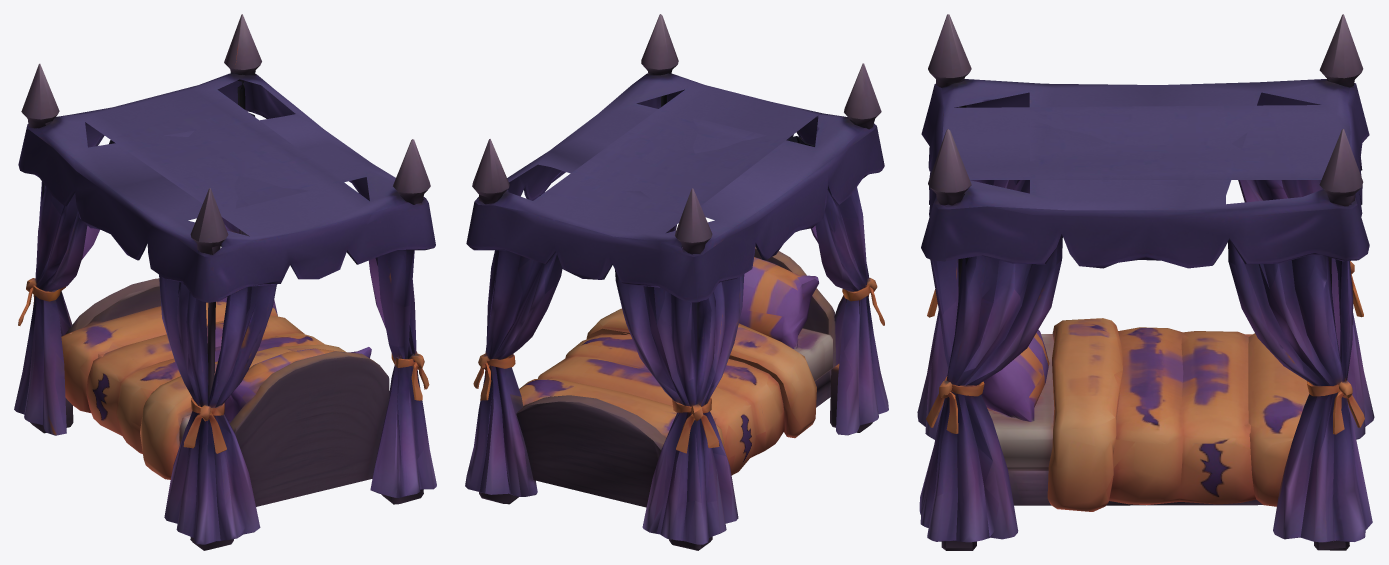
Rendered from S5_WitchBed_LOD2.fbx.
The picture shows the model from 3 angles, left to right: view 1: azimuth 30°, elevation 25°; view 2: azimuth 150°, elevation 25°; view 3: azimuth 270°, elevation 25°; orthographic projection. The views are drawn at different scales.
Parts seen in each view (by area): view 1: S5_WitchBed_LOD2; view 2: S5_WitchBed_LOD2; view 3: S5_WitchBed_LOD2.
Part boxes in pixels (x1=…): S5_WitchBed_LOD2: x1=14, y1=14, x2=436, y2=550; S5_WitchBed_LOD2: x1=465, y1=14, x2=888, y2=550; S5_WitchBed_LOD2: x1=917, y1=14, x2=1374, y2=550.
Bounding box in the file's own units: 1.39 × 1.9 × 1.88.
1 material, 1 textured.
